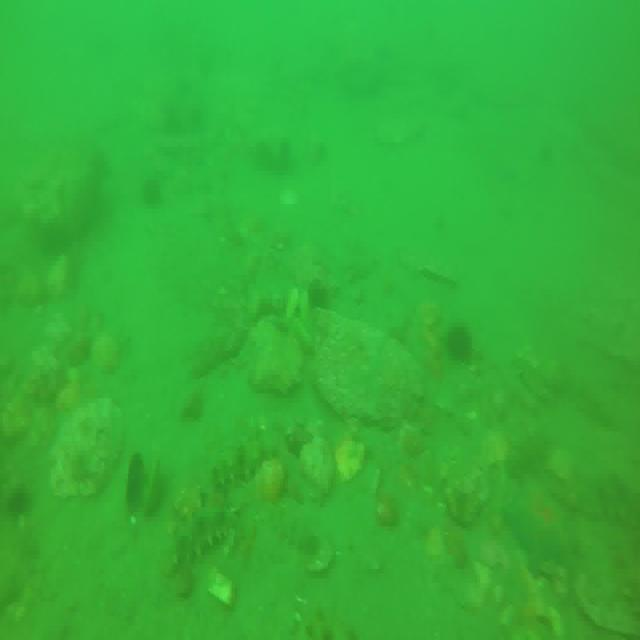echinus: (441, 319, 476, 366)
holothurian: (197, 436, 276, 512), (169, 504, 235, 570)
scallop: (124, 452, 164, 526)
starfish: (507, 477, 576, 577)
